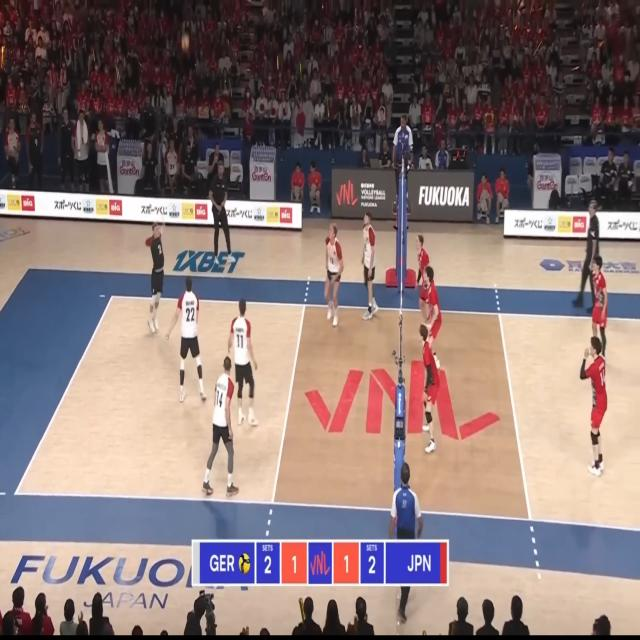ball: (182, 36, 189, 50)
